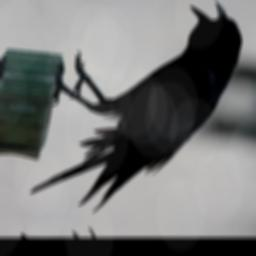Crow: (24, 0, 252, 225)
